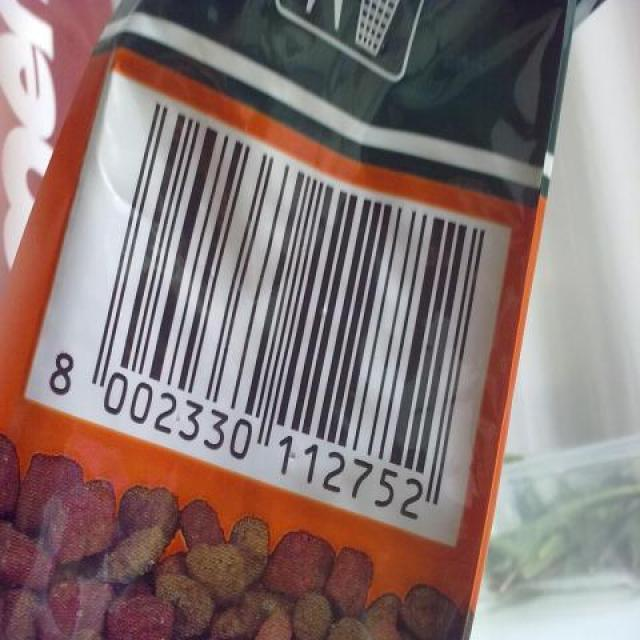Barcode: (23, 43, 518, 560)
